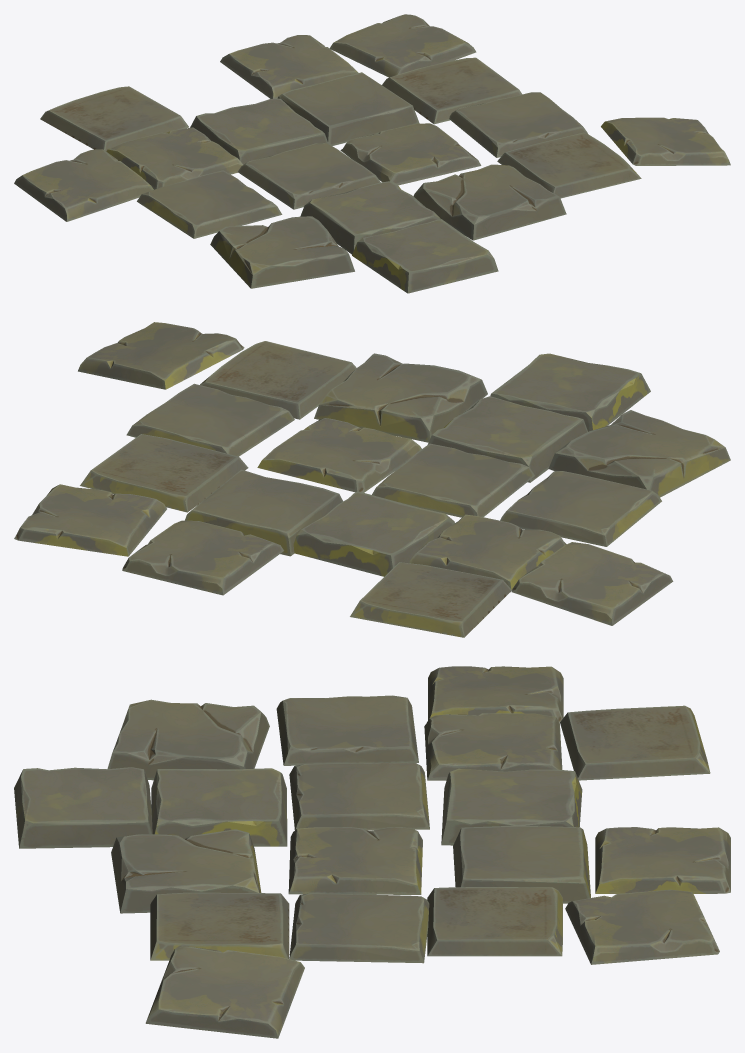
File: CROW_TILE.fbx
3 views of the same model, one above another, from view 1: azimuth 30°, elevation 25°; view 2: azimuth 150°, elevation 25°; view 3: azimuth 270°, elevation 25° (orthographic). The views are drawn at different scales.
Visible parts, largest first — view 1: MeshBaker_mesh_mesh; view 2: MeshBaker_mesh_mesh; view 3: MeshBaker_mesh_mesh.
Part boxes in pixels (x1=…): MeshBaker_mesh_mesh: x1=14, y1=14, x2=730, y2=293; MeshBaker_mesh_mesh: x1=14, y1=322, x2=730, y2=637; MeshBaker_mesh_mesh: x1=14, y1=666, x2=730, y2=1038.
Bounding box in the file's own units: 1575 × 64.98 × 1328.
1 material, 1 textured.
